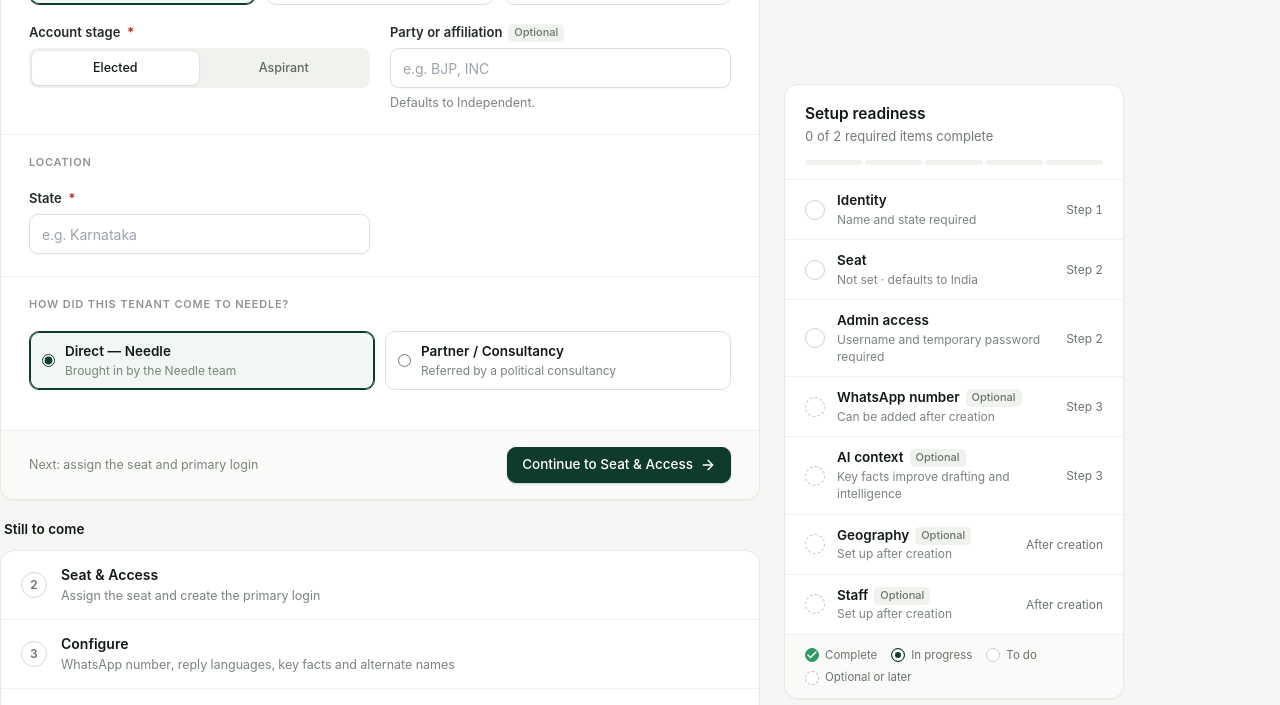
Test: onboarding: acquisition source › says so when there are no active partners
(page scrolled)
Step 1. Click the radio button labelled "Partner / Consultancy Referred by a political consultancy" → coordinates (404, 360), box [398,354,411,367]
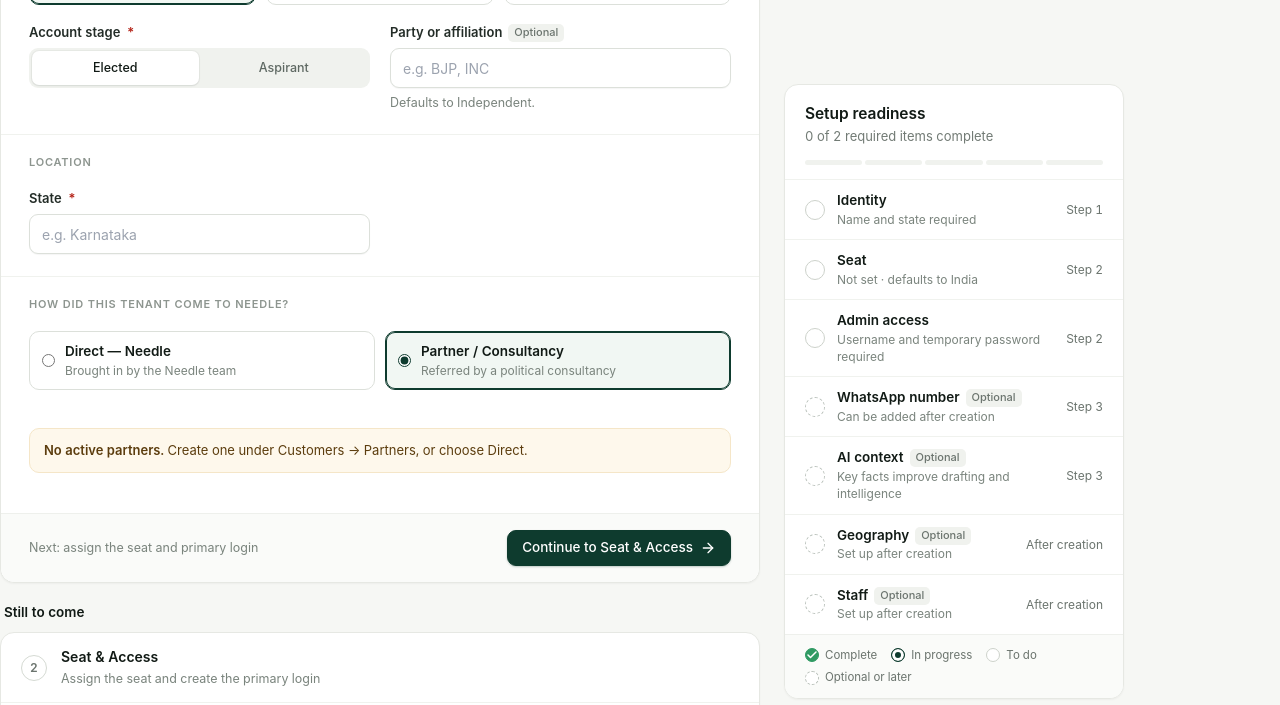
Expected: the text "No active partners." is shown, [44,442,168,458]
